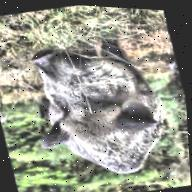boar: (6, 3, 177, 190)
